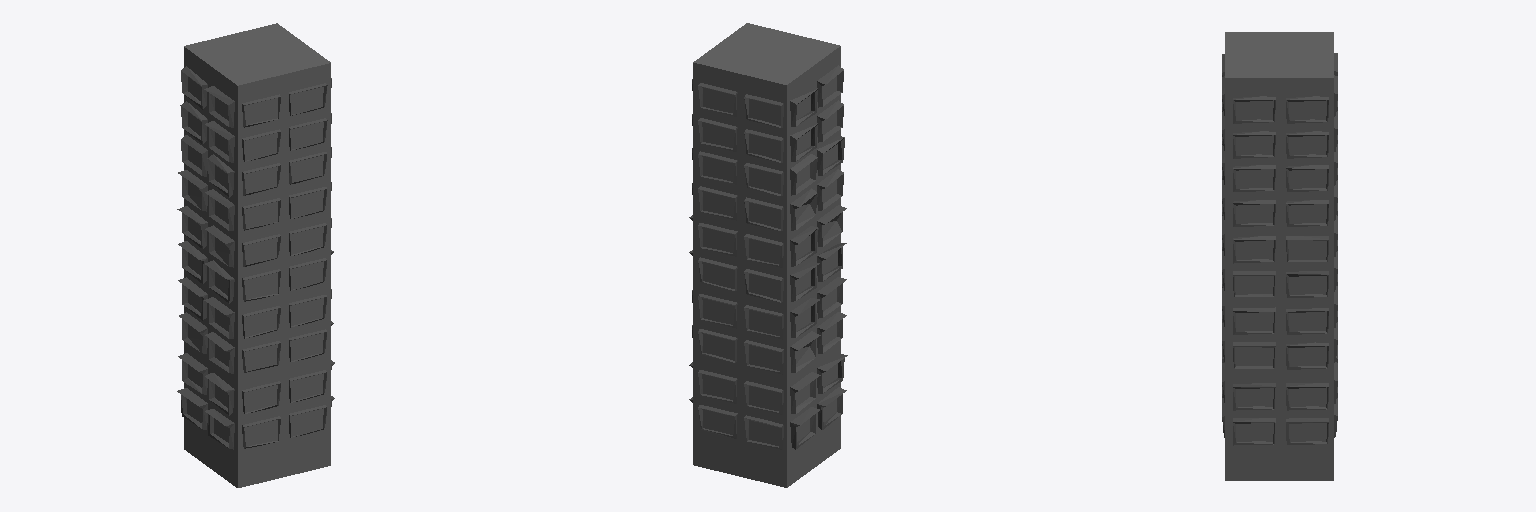
3 renders of one model, left to right at view 1: azimuth 30°, elevation 25°; view 2: azimuth 150°, elevation 25°; view 3: azimuth 270°, elevation 25°, orthographic.
Parts seen in each view (by area): view 1: Cube, Cube.002_Cube.009; view 2: Cube, Cube.002_Cube.009; view 3: Cube, Cube.002_Cube.009.
Boxes of the visible parts, <box> form: Cube: <box>184,23,330,487</box>; Cube.002_Cube.009: <box>177,66,334,449</box>; Cube: <box>693,23,840,487</box>; Cube.002_Cube.009: <box>689,65,847,449</box>; Cube: <box>1225,32,1333,480</box>; Cube.002_Cube.009: <box>1222,53,1337,445</box>.
Size of the model in its own units: 2.39 by 8.21 by 2.15.
Materials: 2 (1 with a texture image).